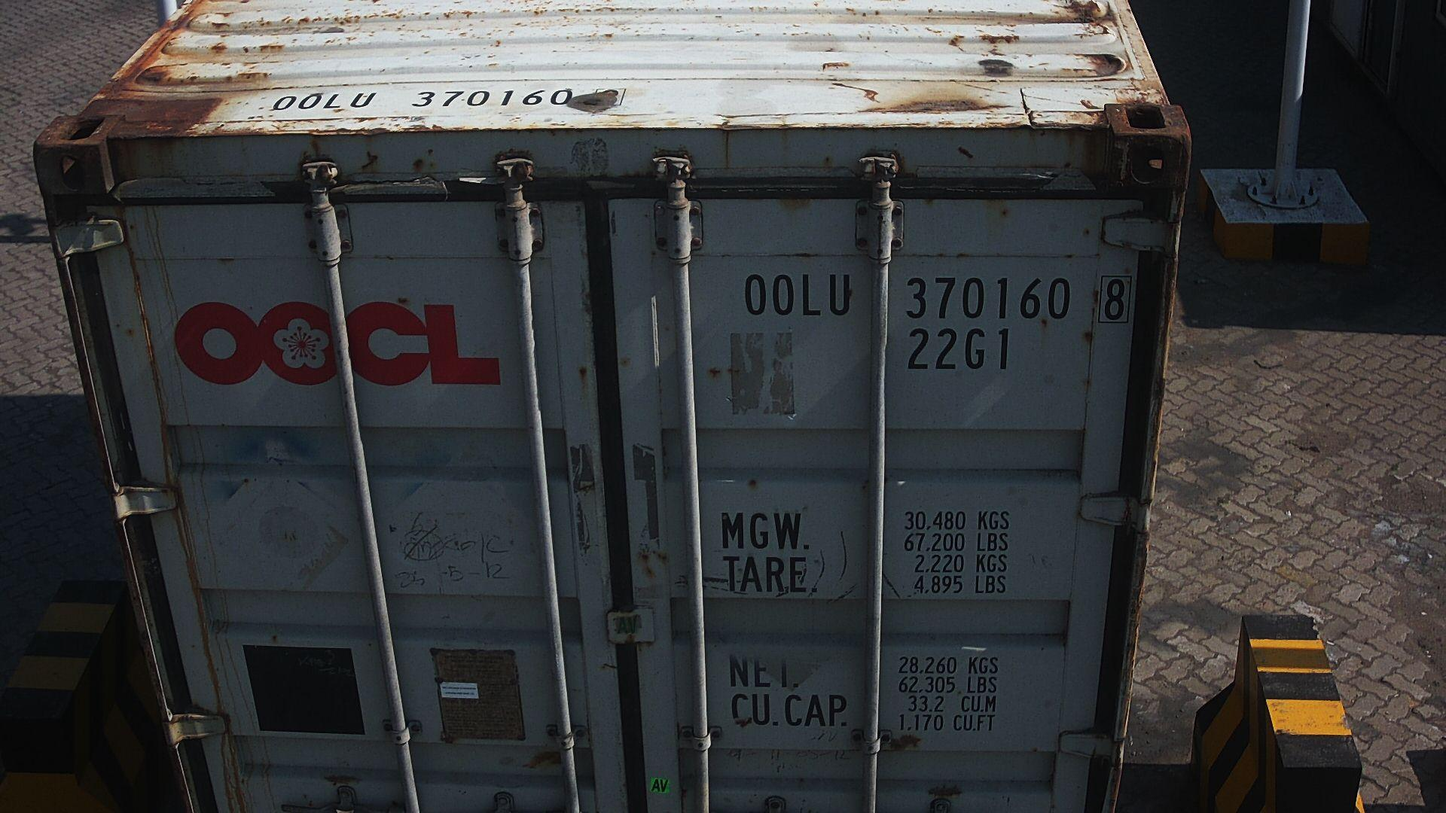container-numbers: (739, 270, 1137, 328), (268, 82, 578, 115), (900, 325, 1016, 375)
